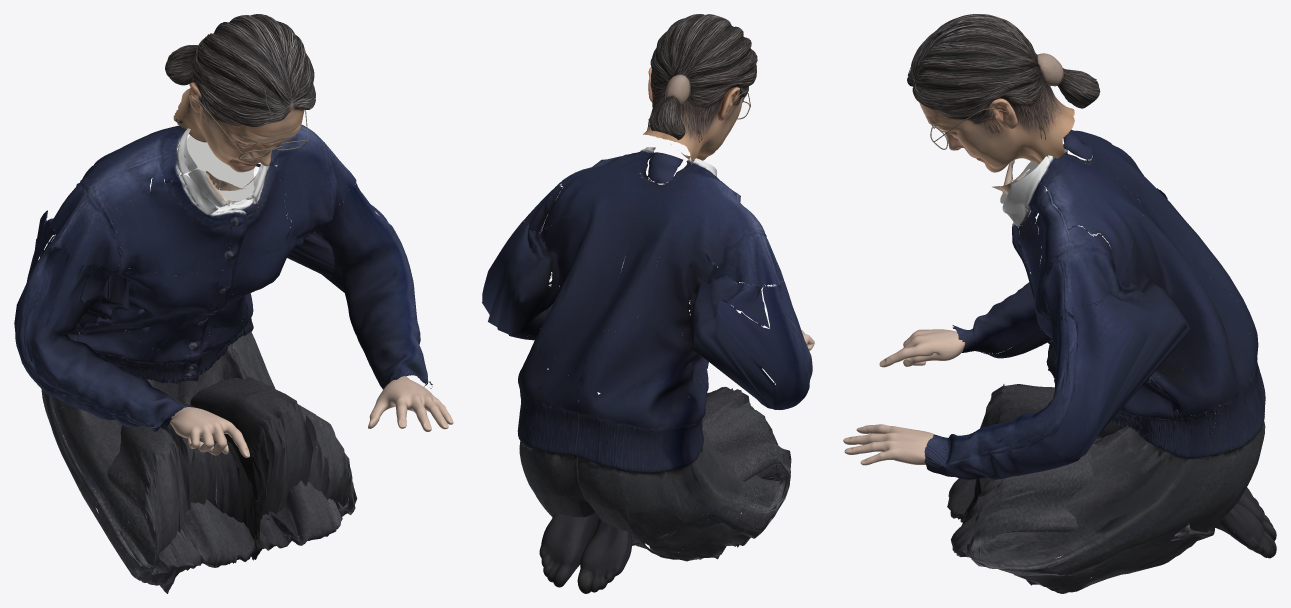
The model's file is kikite_stroke.glb.
3 renders of one model, left to right at view 1: azimuth 30°, elevation 25°; view 2: azimuth 150°, elevation 25°; view 3: azimuth 270°, elevation 25°, orthographic. The views are drawn at different scales.
Visible parts, largest first — view 1: kikite_body, kikite_head, kikite_hands; view 2: kikite_body, kikite_head; view 3: kikite_body, kikite_head, kikite_hands.
Part boxes in pixels (x1=…): kikite_body: x1=14, y1=119, x2=432, y2=593; kikite_head: x1=165, y1=14, x2=315, y2=172; kikite_hands: x1=170, y1=376, x2=453, y2=457; kikite_body: x1=482, y1=147, x2=812, y2=593; kikite_head: x1=643, y1=14, x2=757, y2=165; kikite_body: x1=924, y1=129, x2=1276, y2=593; kikite_head: x1=907, y1=14, x2=1100, y2=172; kikite_hands: x1=843, y1=329, x2=965, y2=465.
Size of the model in its own units: 0.6415 by 0.964 by 0.6683.
6 materials, 3 textured.
